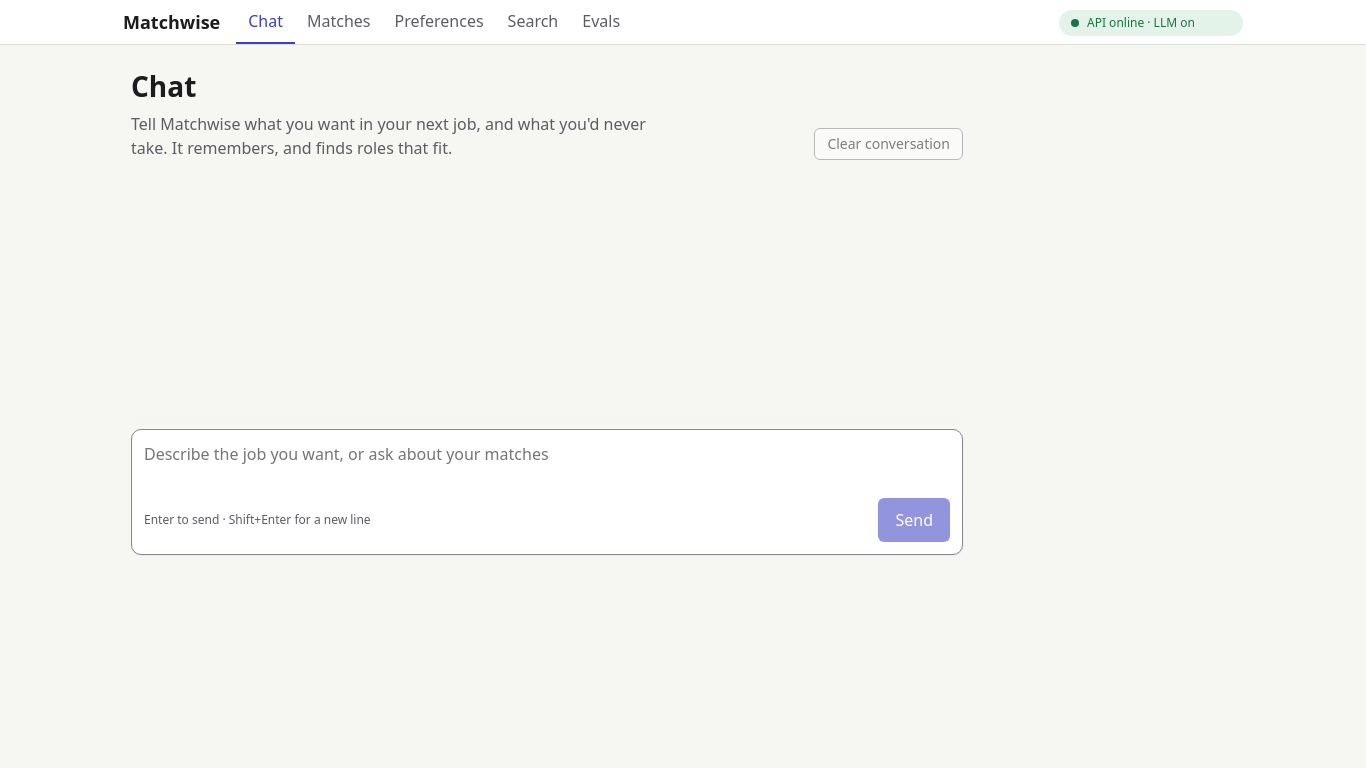
sending › shows the message at once, waits for the reply, then shows it from the saved history
Later steps or results of the test are not shown.
Step 1. Type "Backend roles, remote." into the text box named "Message" → [547, 466], box [144, 442, 950, 490]
Then press Enter
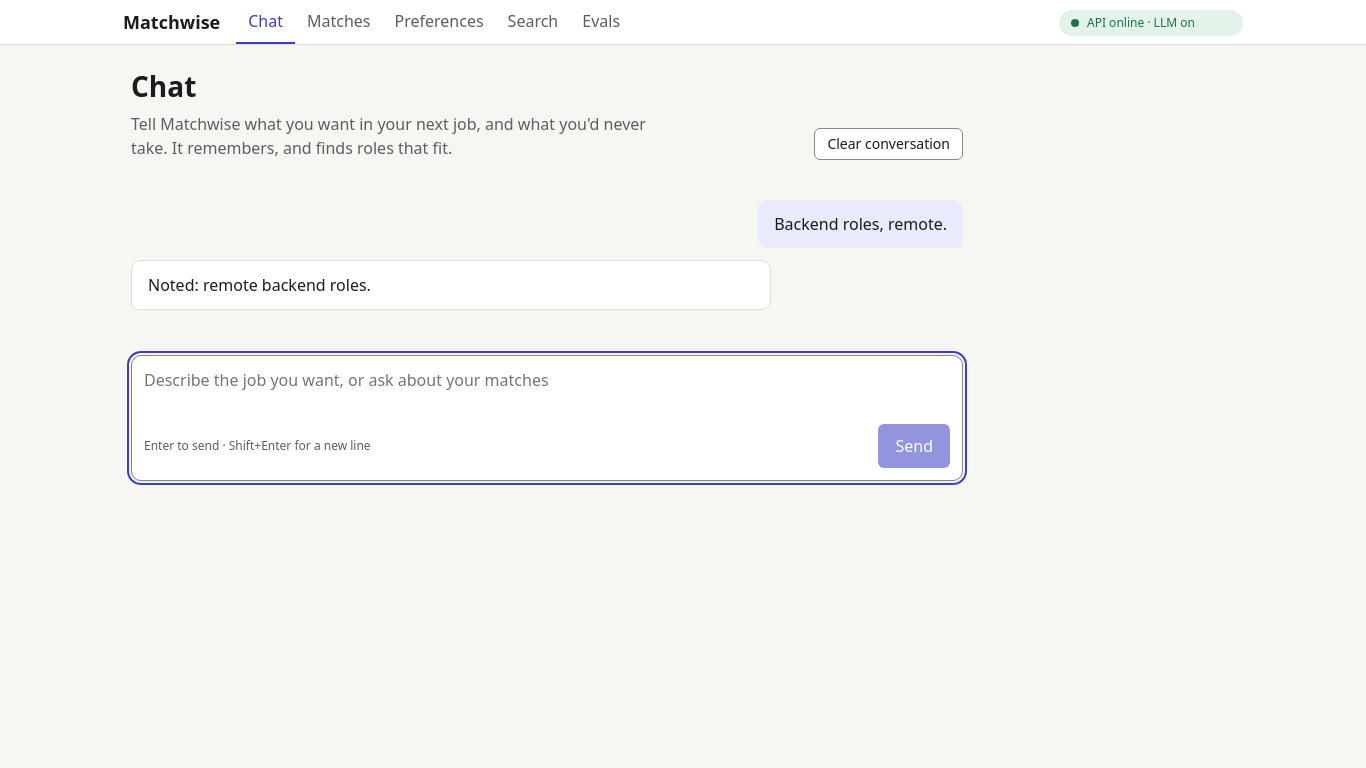
Check: the text box named "Message" is empty, box [144, 368, 950, 416]
Check: the text "Noted: remote backend roles." is shown, box [148, 274, 371, 296]
Check: the text "Backend roles, remote." is shown once, box [758, 200, 963, 248]
